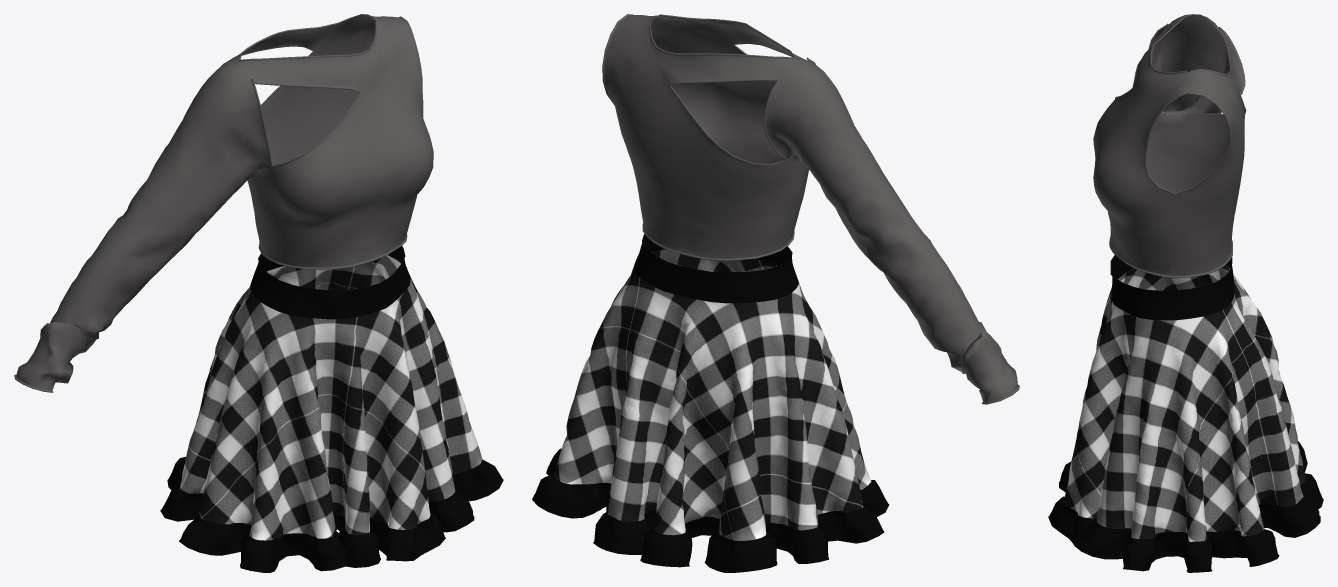
File: w_casual.glb
3 renders of one model, left to right at view 1: azimuth 30°, elevation 25°; view 2: azimuth 150°, elevation 25°; view 3: azimuth 270°, elevation 25°, orthographic. The views are drawn at different scales.
Visible parts, largest first — view 1: Object_4, Object_2, Object_3; view 2: Object_2, Object_4, Object_3; view 3: Object_2, Object_4, Object_3.
Part boxes in pixels (x1,y1,x2,y2): Object_4: (14, 14, 433, 392); Object_2: (180, 255, 482, 540); Object_3: (160, 246, 503, 572); Object_2: (553, 249, 871, 540); Object_4: (602, 14, 1019, 404); Object_3: (532, 234, 889, 572); Object_2: (1064, 264, 1305, 541); Object_4: (1093, 14, 1246, 278); Object_3: (1048, 255, 1323, 572).
Bounding box in the file's own units: 80.81 × 83.27 × 43.23.
Materials: 3 (1 with a texture image).
